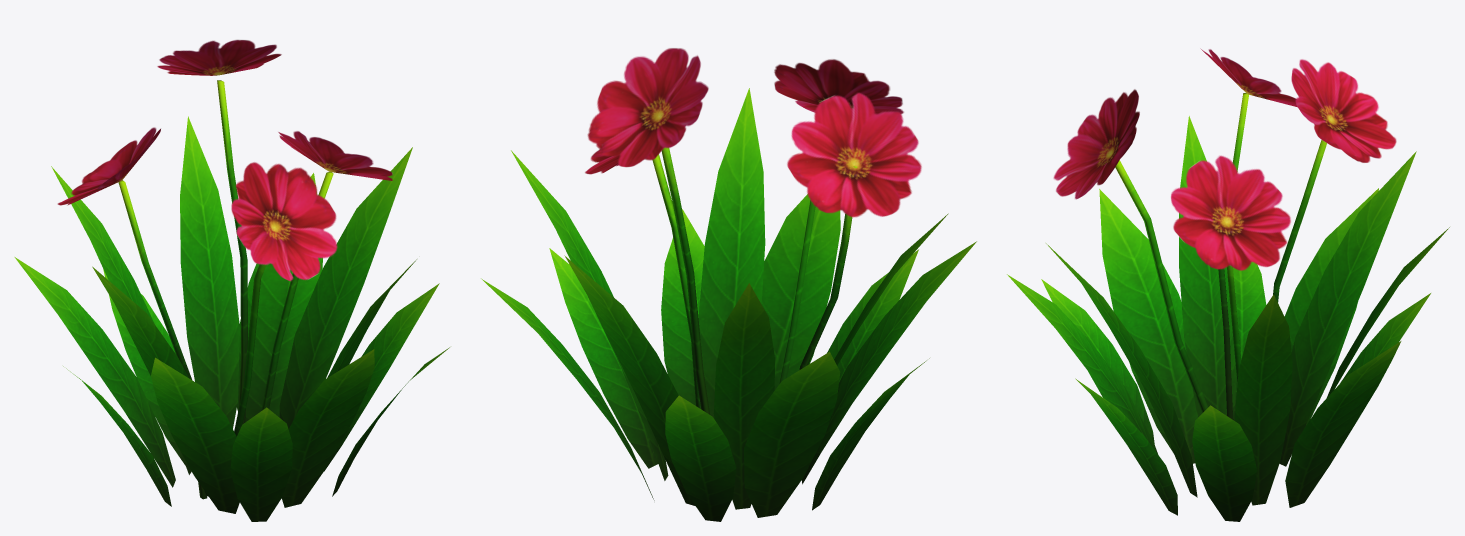
3 renders of one model, left to right at view 1: azimuth 30°, elevation 25°; view 2: azimuth 150°, elevation 25°; view 3: azimuth 270°, elevation 25°, orthographic. The views are drawn at different scales.
Parts seen in each view (by area): view 1: Flower01; view 2: Flower01; view 3: Flower01.
Boxes of the visible parts, x1,y1,x2,y2 form: Flower01: (14, 39, 449, 521); Flower01: (481, 48, 976, 521); Flower01: (1007, 48, 1449, 521).
Size of the model in its own units: 25.23 by 28.43 by 24.54.
Materials: 1 (1 with a texture image).
